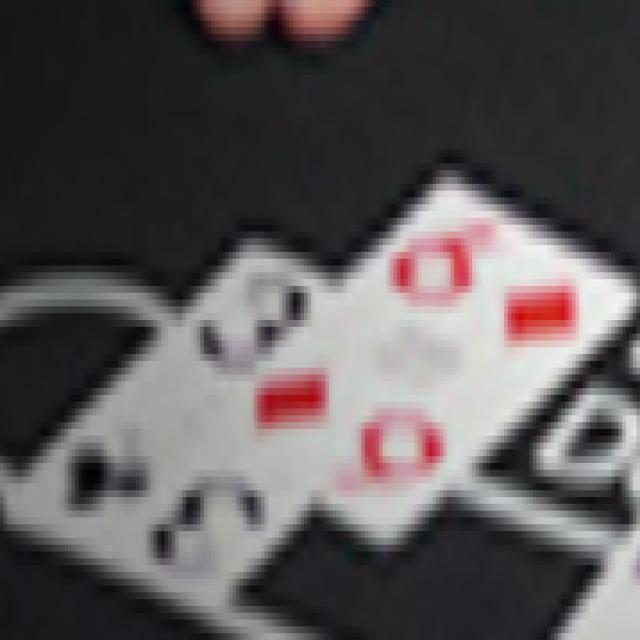Card-3: (7, 239, 337, 621)
Card-6: (240, 170, 635, 555)
